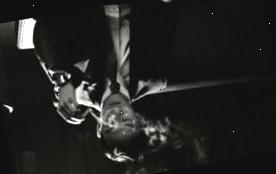smoke: (90, 90, 195, 168)
